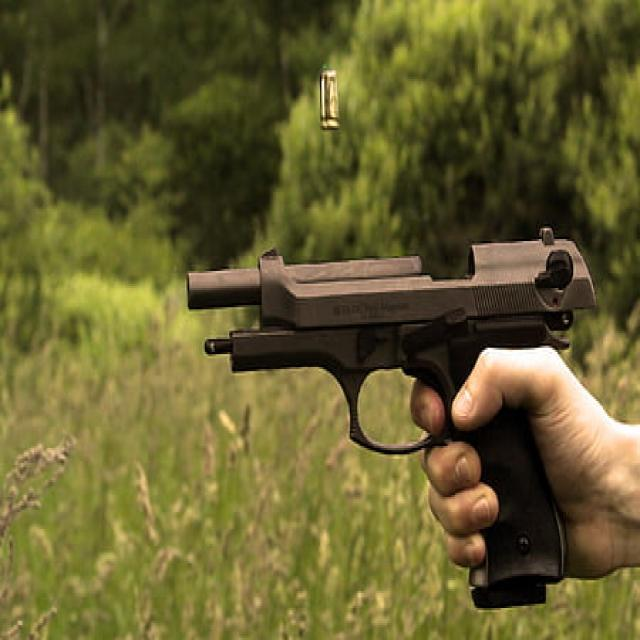gun: (185, 230, 600, 602)
